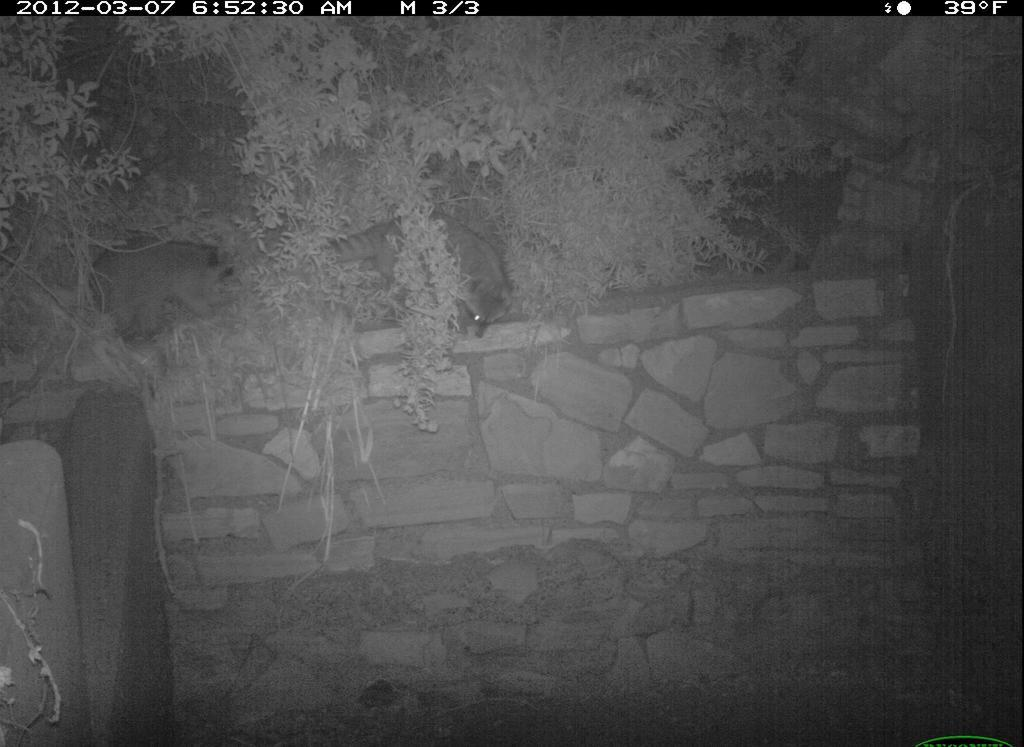raccoon: (314, 211, 521, 354), (75, 233, 244, 355)
